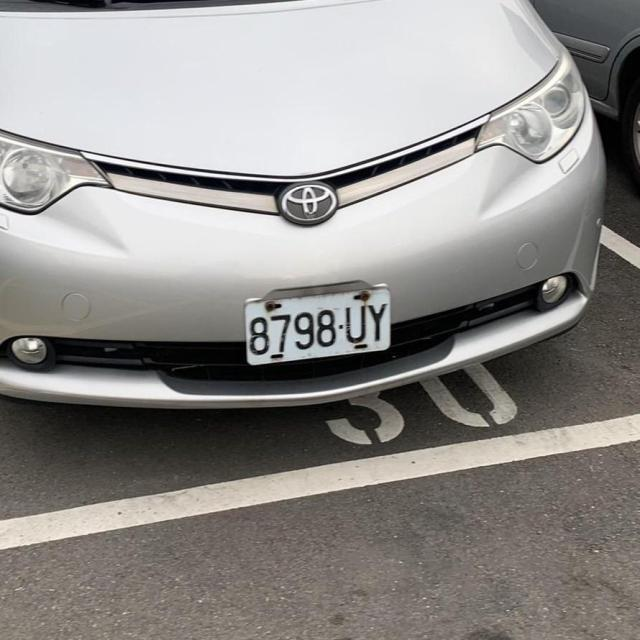W: (234, 276, 400, 370)
